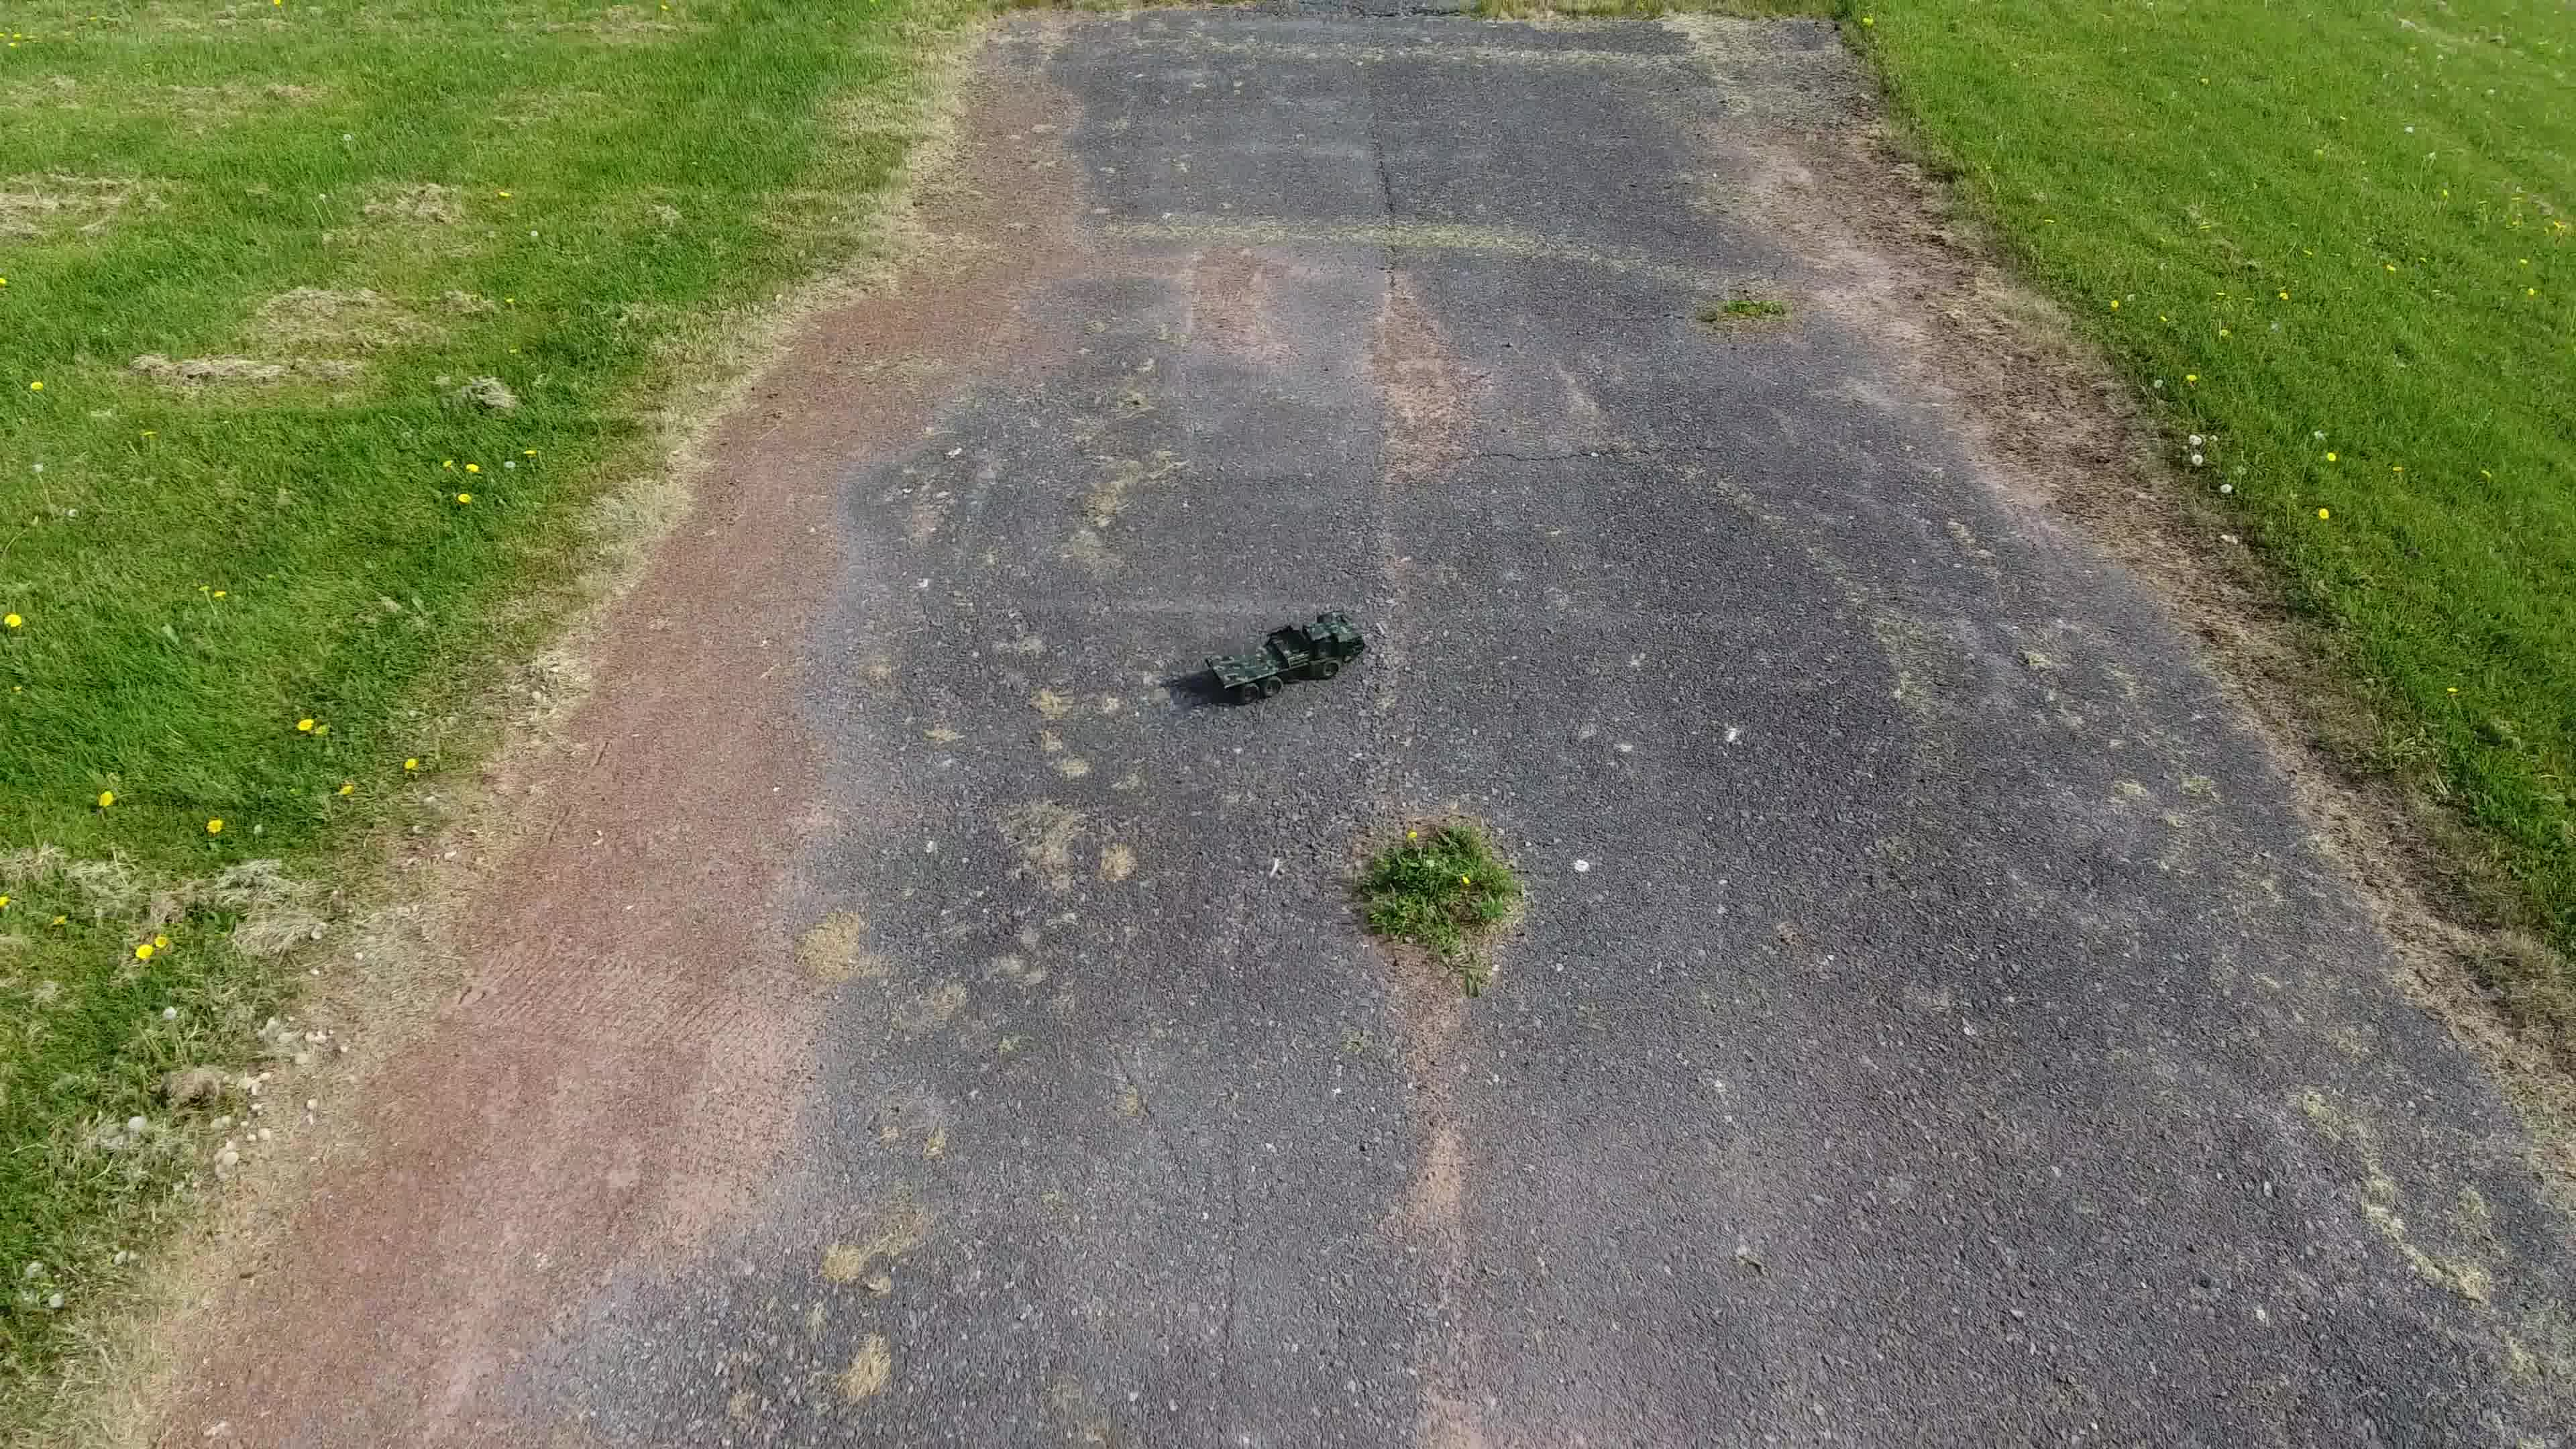transporter9: (1201, 607, 1371, 708)
